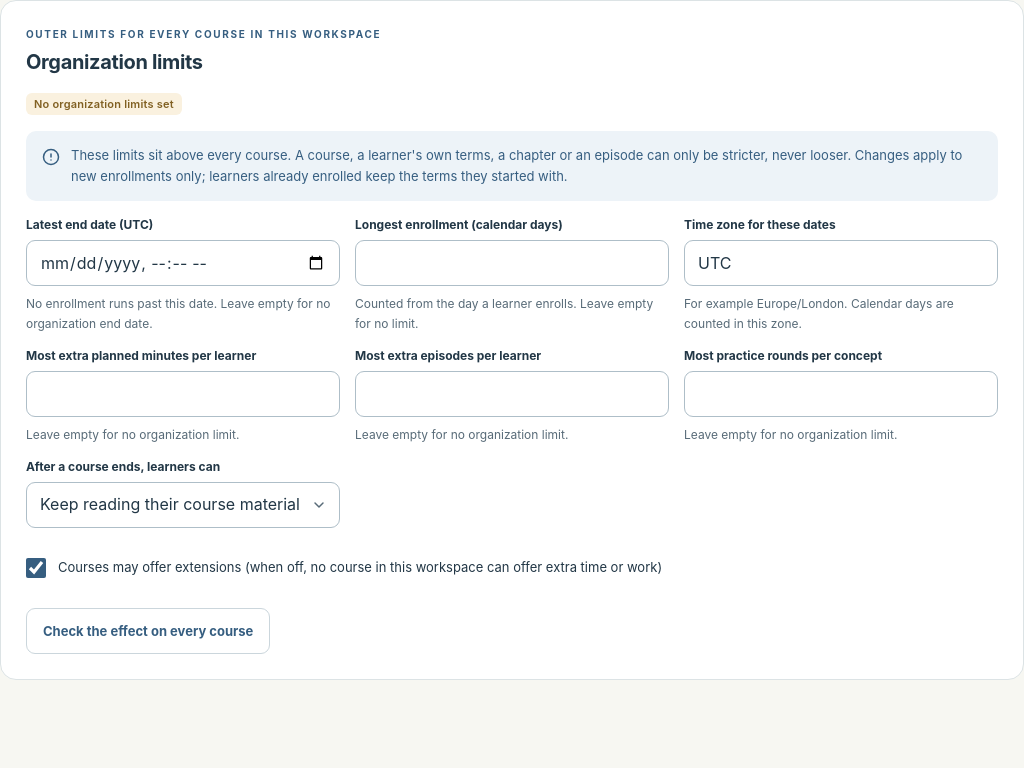
Test: organization limits (G02, G03) › checks every course before saving, explains a clipped course and saves with a reason and the revision
Step 1. Type "10" into the number field labelled "Longest enrollment (calendar days)" → (512, 263), box [355,240,669,286]
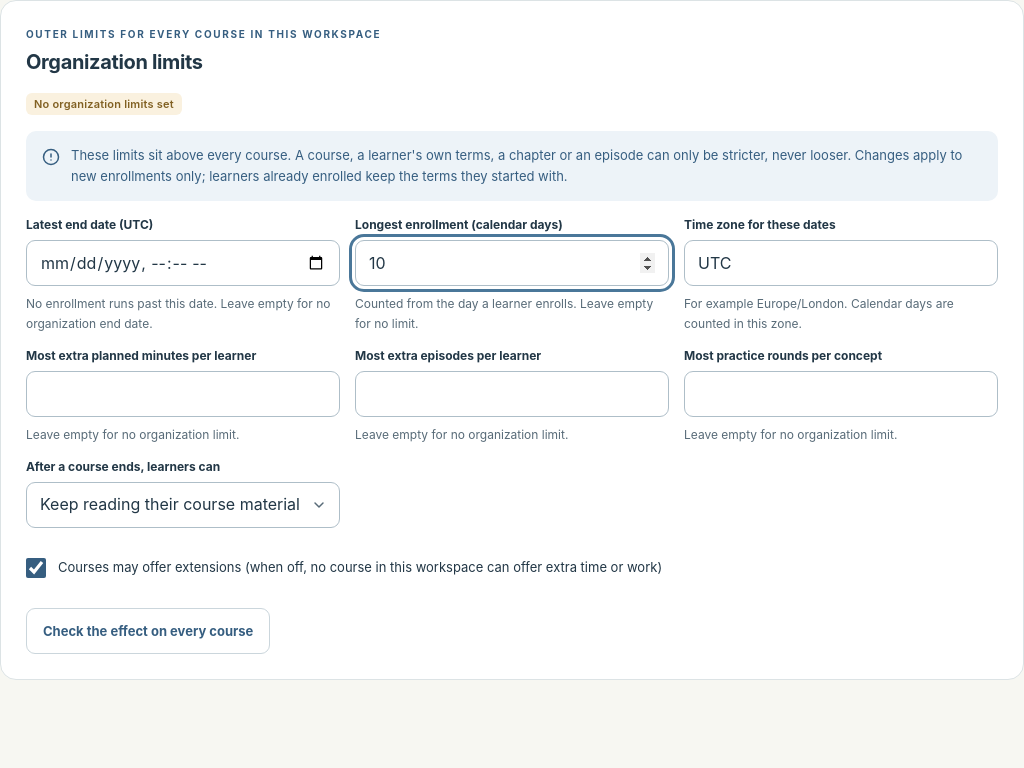
Expected: the button "Save organization limits" is not shown
Step 2. Click the button "Check the effect on every course" → (148, 631), box [26,608,270,654]
(page scrolled)
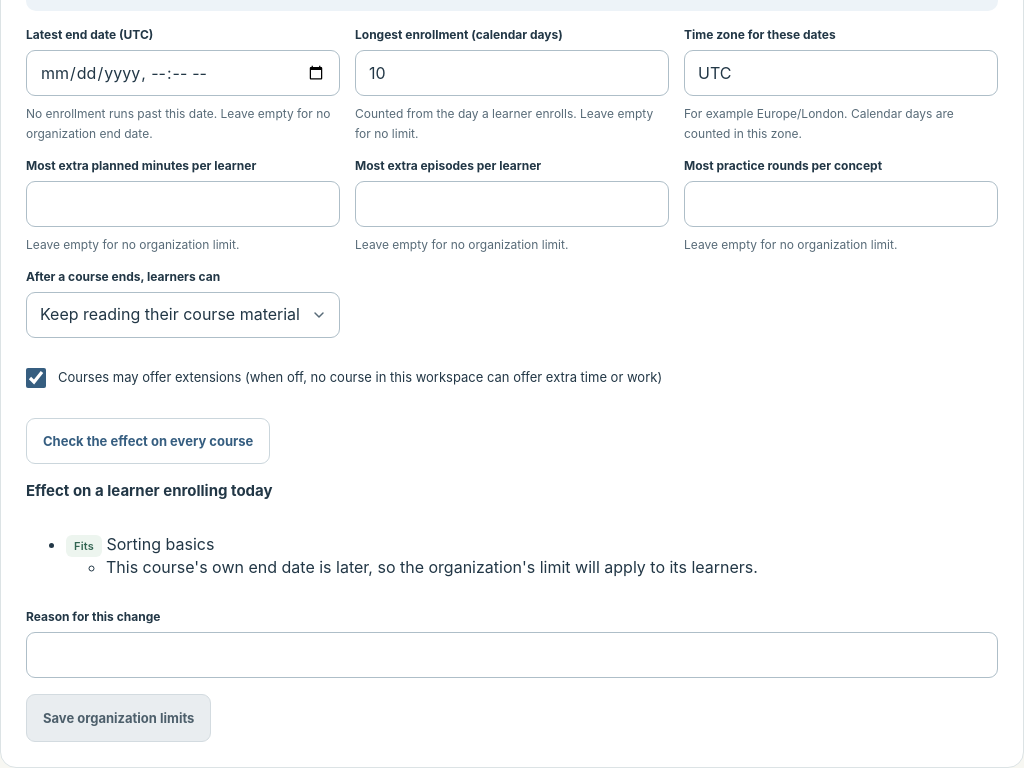
Now the list item "This course's own end date is later, so the organization's limit will apply to its learners." is shown, box [106,557,758,577]
Now the text "Sorting basics" is shown, box [106,534,214,554]
Now the button "Save organization limits" is disabled, box [26,694,211,742]
Step 3. Type "Terms 2026" into the field labelled "Reason for this change" → (512, 655), box [26,632,998,678]
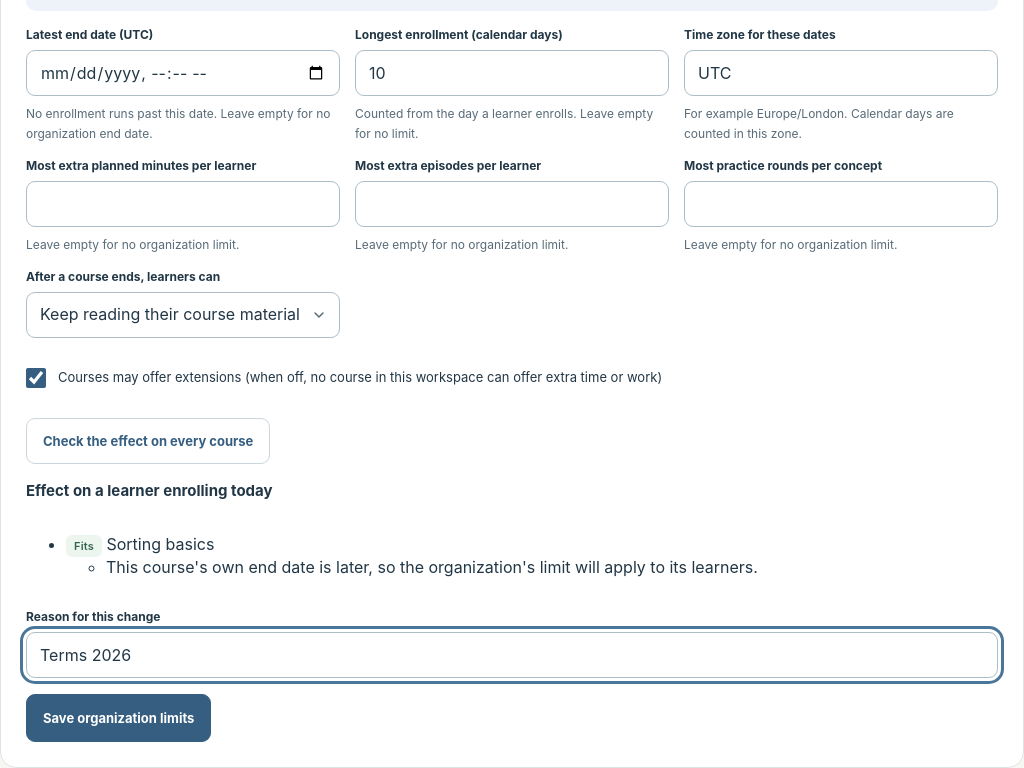
Step 4. Click the button "Save organization limits" → (119, 718), box [26,694,211,742]
(page scrolled)
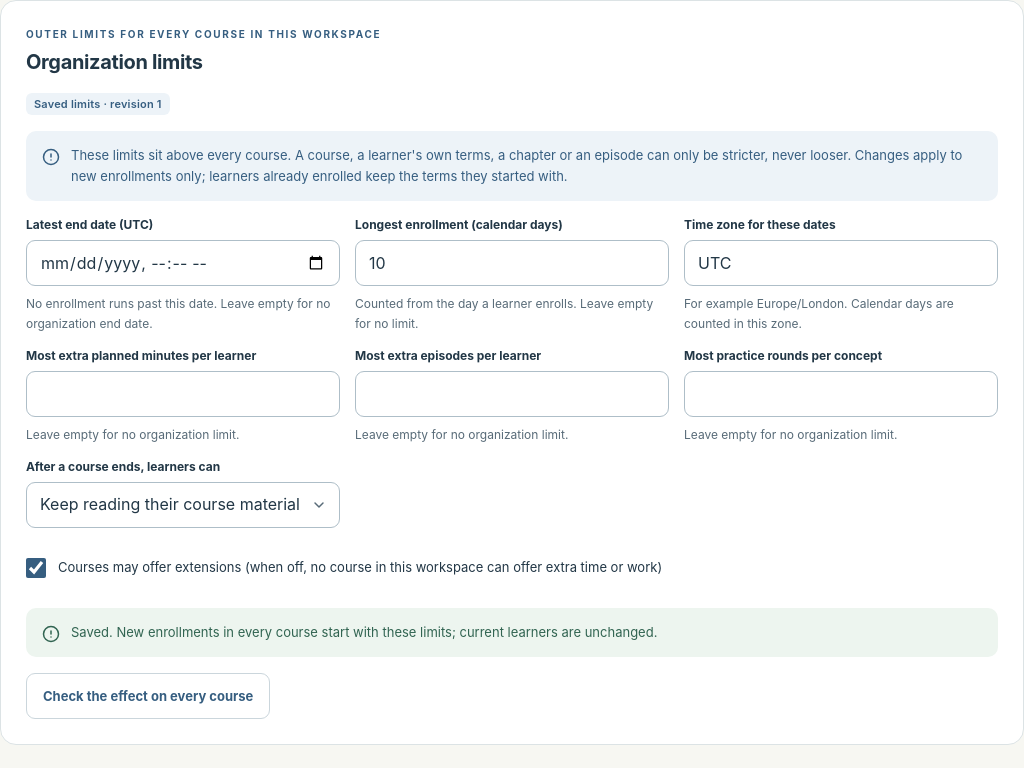
Now the text "New enrollments in every course start" is shown, box [71,624,657,640]
